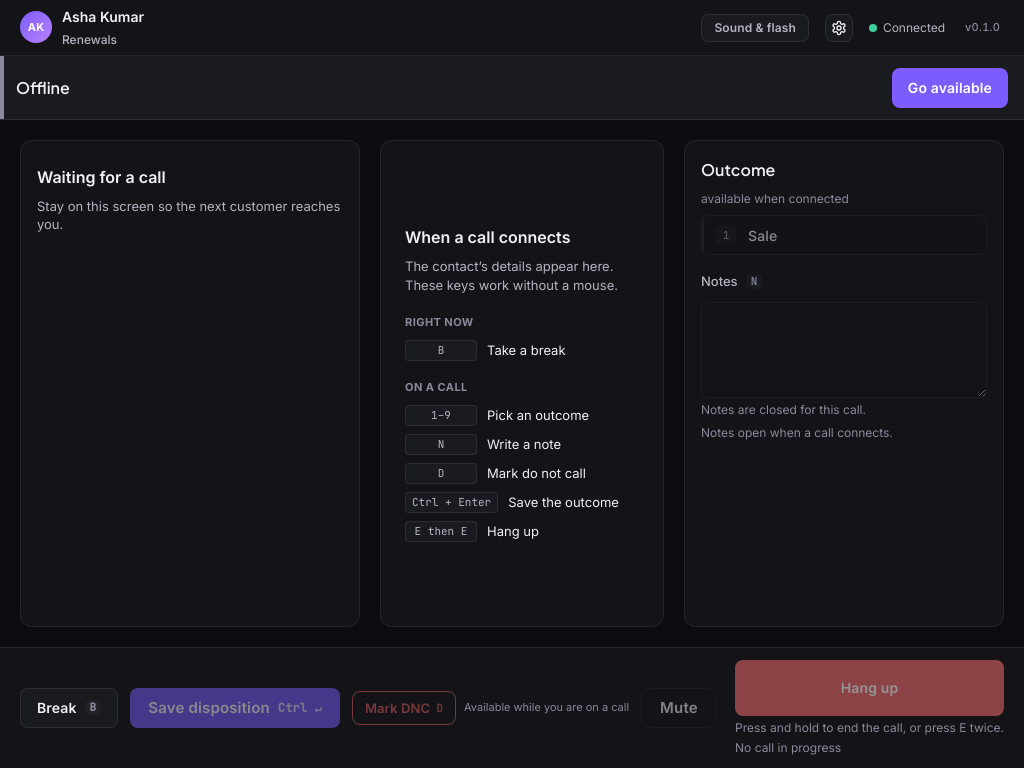
Scenario: a blocked pre-flight leaves a banner the agent can actually clear › clears the banner when the offered gesture works
This screenshot has width=1024, height=768.
Press a
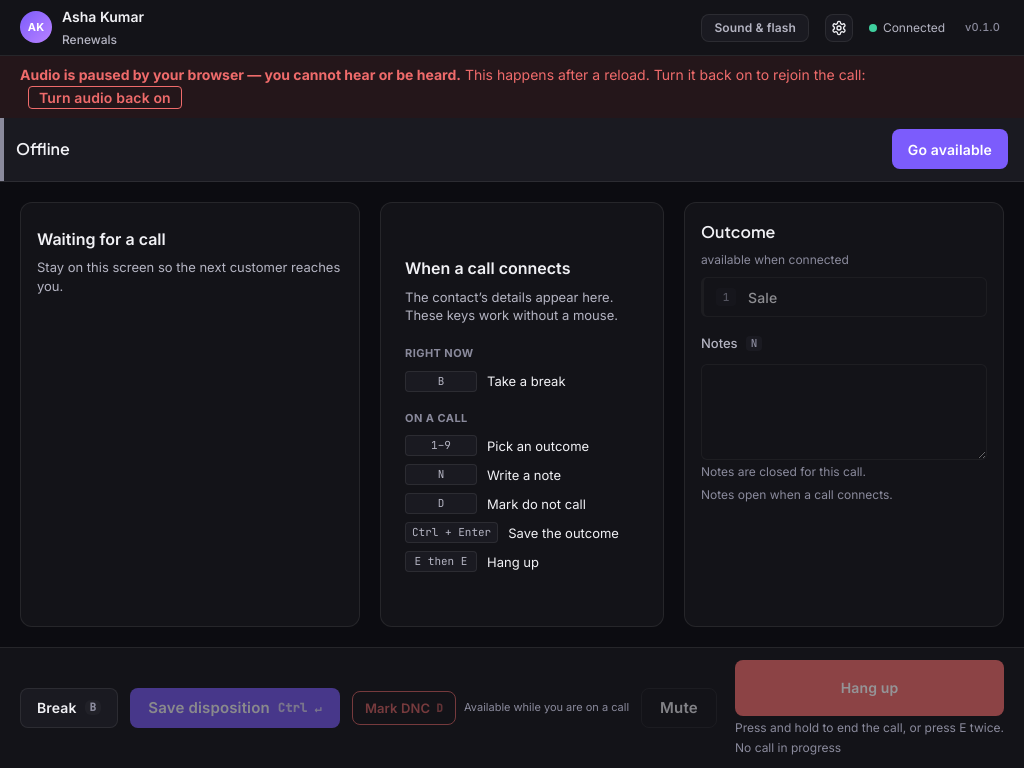
Click the button with test id "mic-resume" at (105, 98), box [28,86,182,109]
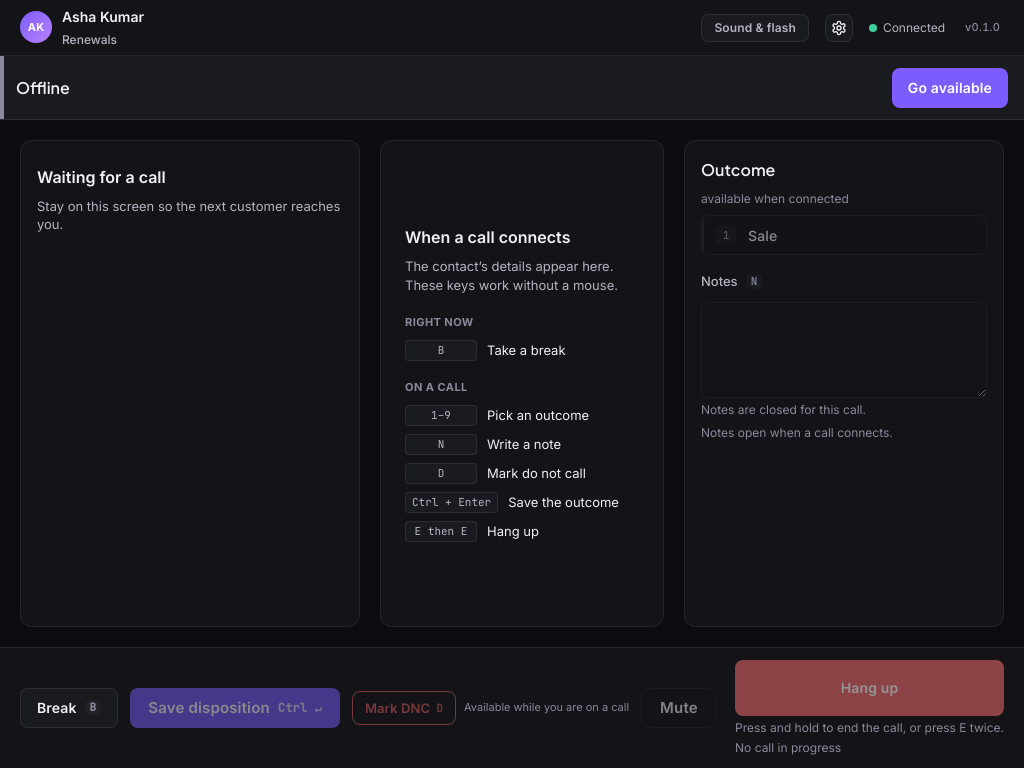
Expected: the message with test id "mic-failure" is gone
